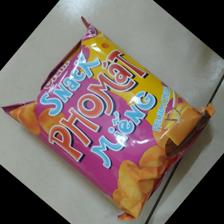Oishi_phomat: (1, 15, 215, 224)
